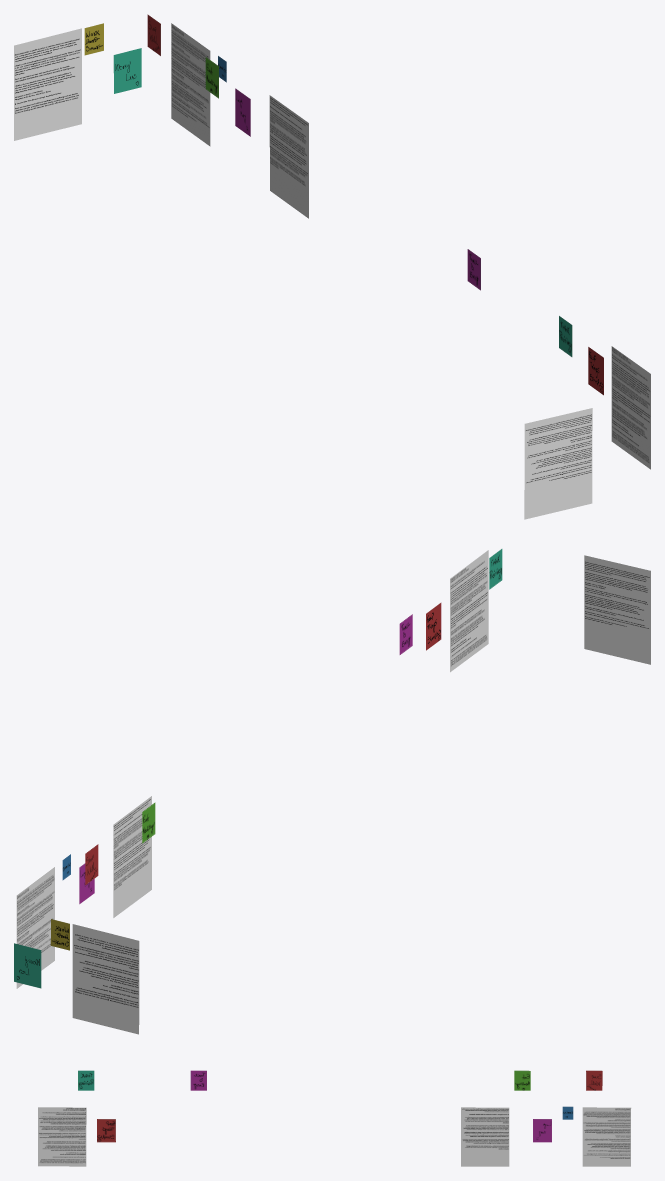
The model's file is sticky_note_grp.fbx.
3 views of the same model, one above another, from view 1: azimuth 30°, elevation 25°; view 2: azimuth 150°, elevation 25°; view 3: azimuth 270°, elevation 25° (orthographic). The views are drawn at different scales.
Visible parts, largest first — view 1: small_poster5, small_poster3, small_poster4, small_poster1, small_poster2, small_poster11; view 2: small_poster3, small_poster5, small_poster4, small_poster1, small_poster2, small_poster11; view 3: small_poster2, small_poster4, small_poster1, small_poster12, small_poster13, small_poster7, small_poster10, small_poster14, small_poster8.
Part boxes in pixels (<box>): small_poster5: <box>524,408,592,519</box>; small_poster3: <box>14,28,81,140</box>; small_poster4: <box>611,346,650,469</box>; small_poster1: <box>269,95,308,218</box>; small_poster2: <box>171,23,210,146</box>; small_poster11: <box>113,48,141,93</box>; small_poster3: <box>72,924,139,1034</box>; small_poster5: <box>584,555,650,664</box>; small_poster4: <box>450,550,488,672</box>; small_poster1: <box>113,796,151,917</box>; small_poster2: <box>16,867,54,988</box>; small_poster11: <box>14,943,41,988</box>; small_poster2: <box>582,1107,631,1166</box>; small_poster4: <box>38,1107,86,1166</box>; small_poster1: <box>461,1107,509,1166</box>; small_poster12: <box>533,1119,551,1142</box>; small_poster13: <box>97,1119,115,1142</box>; small_poster7: <box>586,1070,602,1090</box>; small_poster10: <box>78,1070,94,1090</box>; small_poster14: <box>190,1070,206,1090</box>; small_poster8: <box>514,1070,530,1090</box>.
Bounding box in the file's own units: 50.01 × 43.29 × 305.
Materials: 1 (1 with a texture image).
